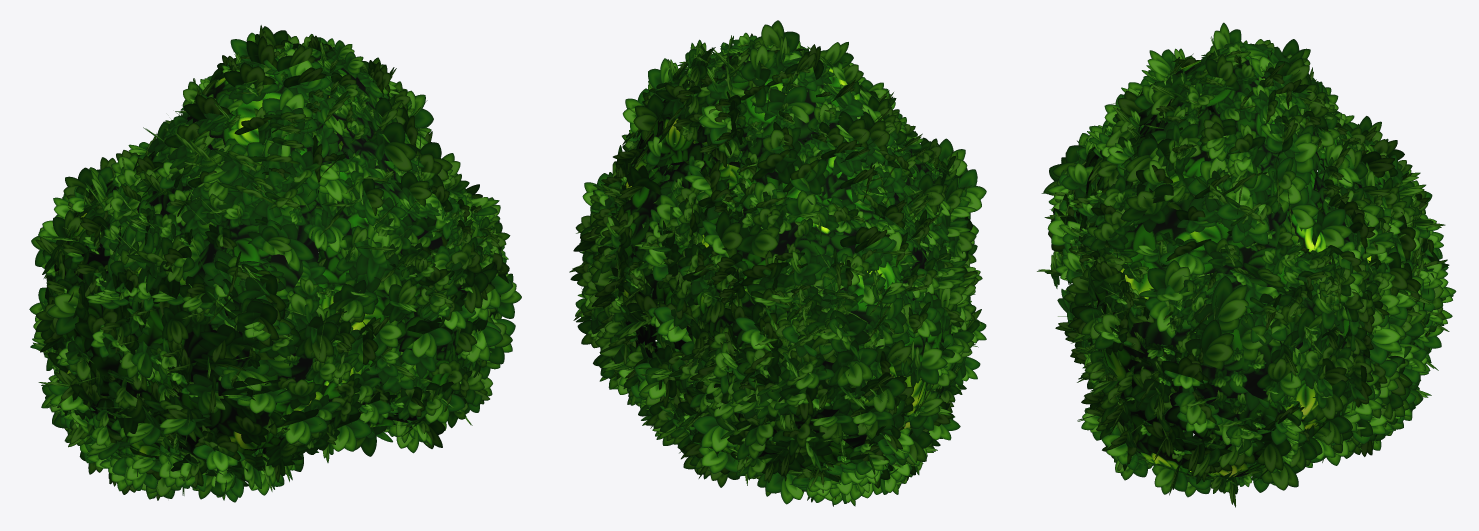
File: TreeLeaves2.fbx
The picture shows the model from 3 angles, left to right: view 1: azimuth 30°, elevation 25°; view 2: azimuth 150°, elevation 25°; view 3: azimuth 270°, elevation 25°; orthographic projection. The views are drawn at different scales.
Visible parts, largest first — view 1: TreeLeaves_single - copy.1664, TreeLeaves_base; view 2: TreeLeaves_single - copy.1664, TreeLeaves_base; view 3: TreeLeaves_single - copy.1664, TreeLeaves_base.
Part boxes in pixels (x1,y1,x2,y2): TreeLeaves_single - copy.1664: [29, 25, 521, 502]; TreeLeaves_base: [54, 57, 493, 462]; TreeLeaves_single - copy.1664: [569, 20, 986, 506]; TreeLeaves_base: [611, 52, 954, 475]; TreeLeaves_single - copy.1664: [1037, 22, 1456, 507]; TreeLeaves_base: [1074, 56, 1424, 477].
Bounding box in the file's own units: 272 × 277 × 240.
